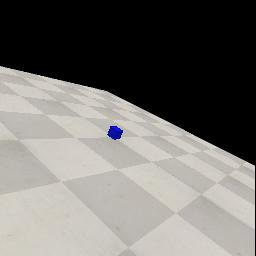box: (107, 126, 123, 140)
